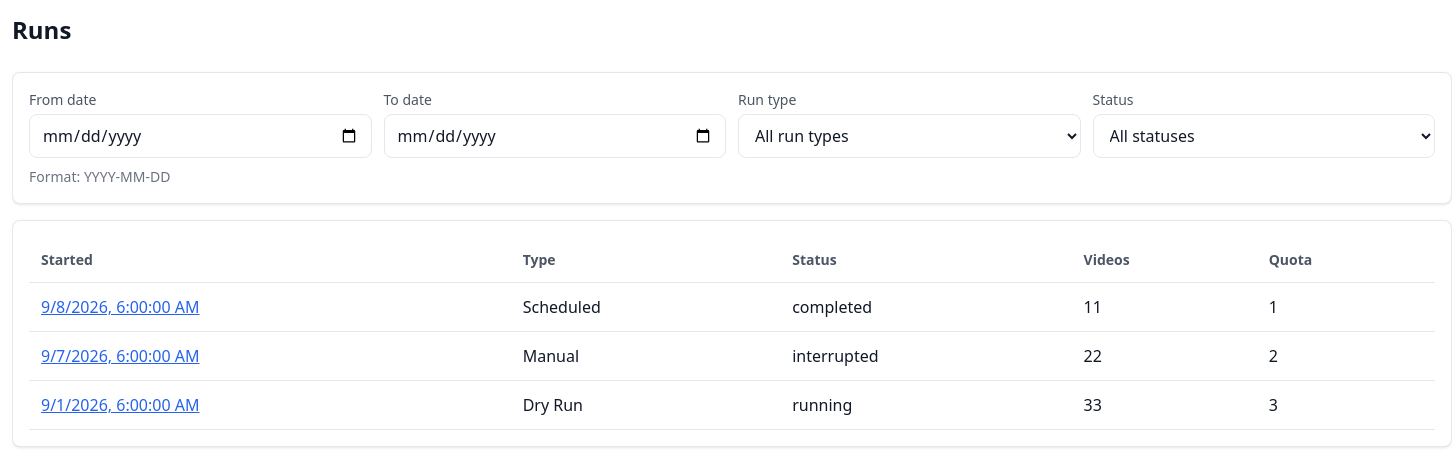
it: RunsView › filters › filters runs by run type
This screenshot has width=1452, height=465.
Expected: the table is shown, [29, 237, 1435, 430]
Select "Manual" in the dropdown labelled "Run type". click: (909, 136)
box: [738, 114, 1080, 158]
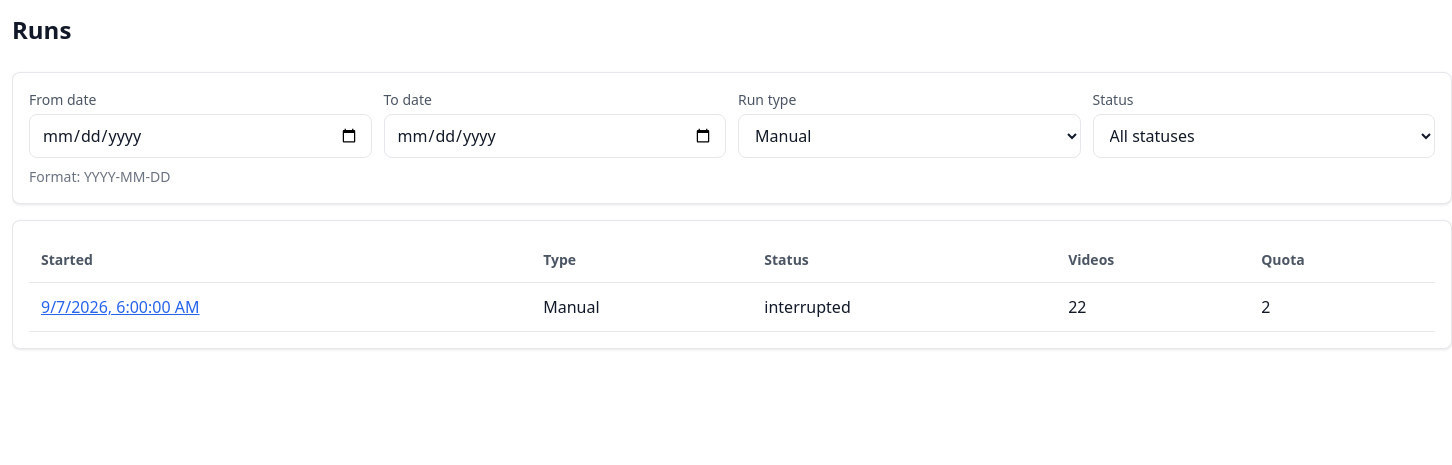
Expected: the text "22" is shown, [1056, 282, 1249, 332]
Now the text "11" is gone
Now the text "33" is gone
